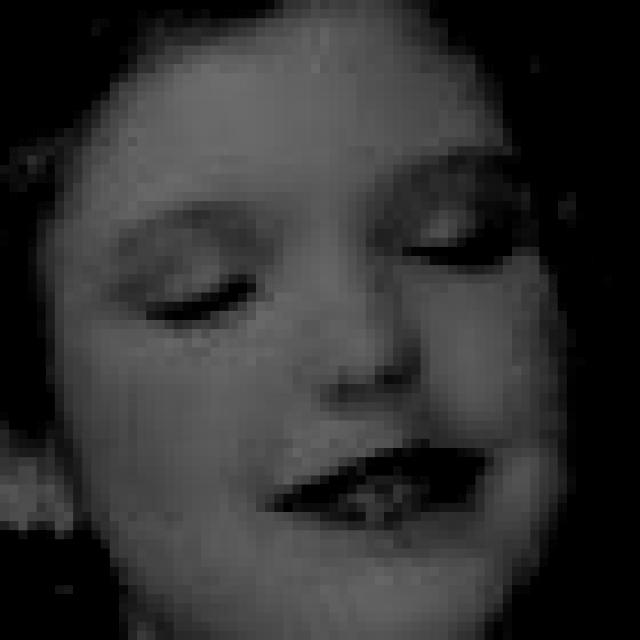real: (28, 0, 586, 631), (130, 199, 524, 344)
